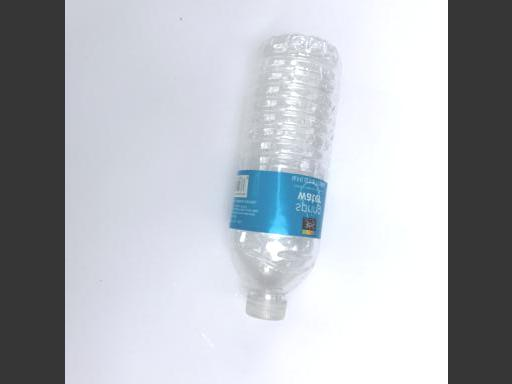bottle: (225, 26, 342, 328)
